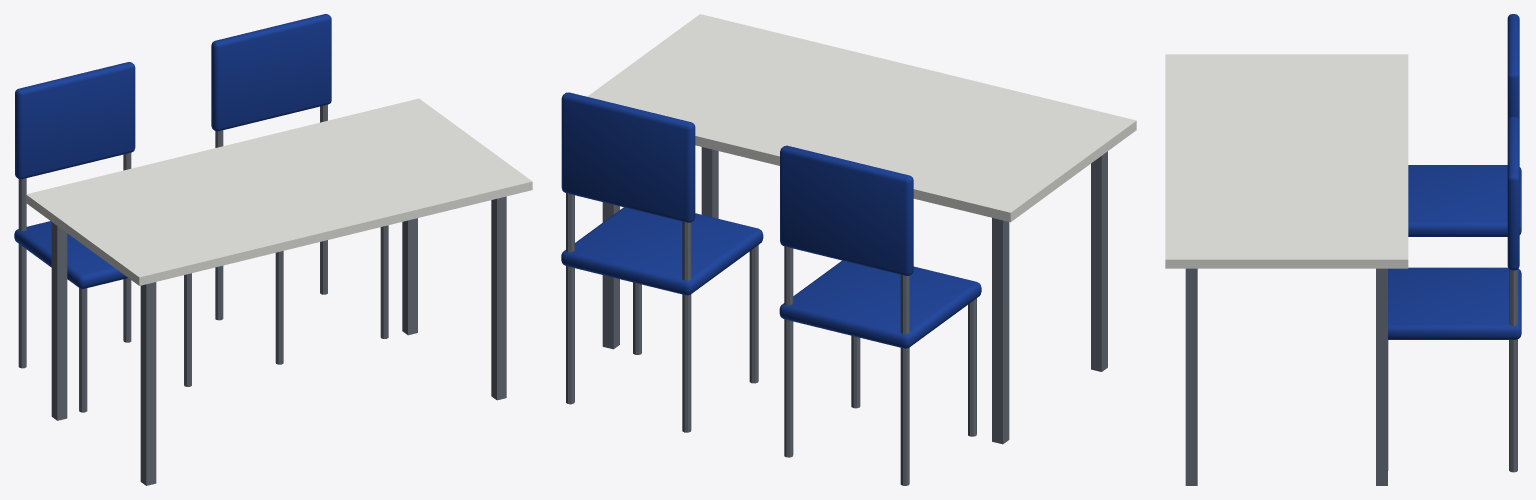
Rendered from school.desk.set_double.glb.
The picture shows the model from 3 angles, left to right: view 1: azimuth 30°, elevation 25°; view 2: azimuth 150°, elevation 25°; view 3: azimuth 270°, elevation 25°; orthographic projection. The views are drawn at different scales.
Visible parts, largest first — view 1: table__laminate_white, chairs__plastic_blue, table__steel_painted, chairs__steel_painted; view 2: table__laminate_white, chairs__plastic_blue, chairs__steel_painted, table__steel_painted; view 3: table__laminate_white, chairs__plastic_blue, table__steel_painted, chairs__steel_painted.
Part boxes in pixels (<box>): table__laminate_white: <box>26,98,532,285</box>; chairs__plastic_blue: <box>14,14,331,288</box>; table__steel_painted: <box>51,196,506,485</box>; chairs__steel_painted: <box>18,104,388,412</box>; table__laminate_white: <box>587,14,1136,222</box>; chairs__plastic_blue: <box>561,92,981,348</box>; chairs__steel_painted: <box>566,193,976,485</box>; table__steel_painted: <box>602,147,1107,444</box>; table__laminate_white: <box>1165,54,1408,268</box>; chairs__plastic_blue: <box>1388,14,1521,339</box>; table__steel_painted: <box>1185,268,1387,485</box>; chairs__steel_painted: <box>1388,269,1517,472</box>.
Size of the model in its own units: 1.2 by 0.81 by 0.88.
